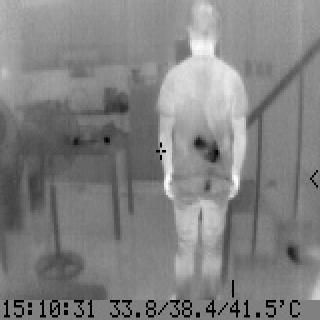Gun: (192, 133, 222, 195)
